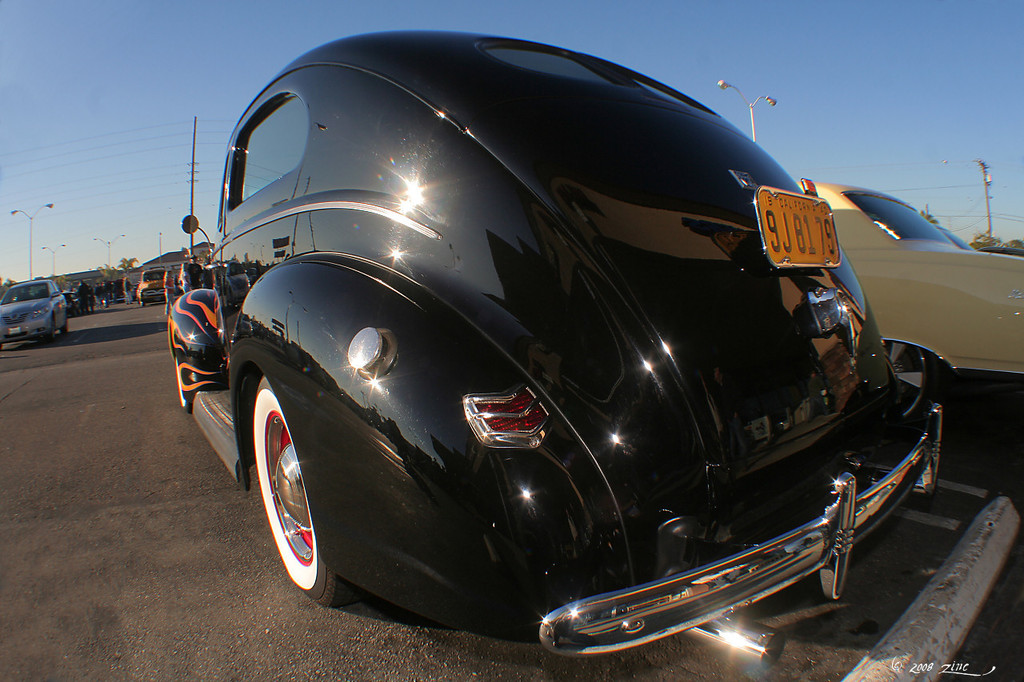Car: (160, 23, 983, 642), (769, 175, 1023, 424), (0, 281, 71, 350), (138, 270, 164, 307)
